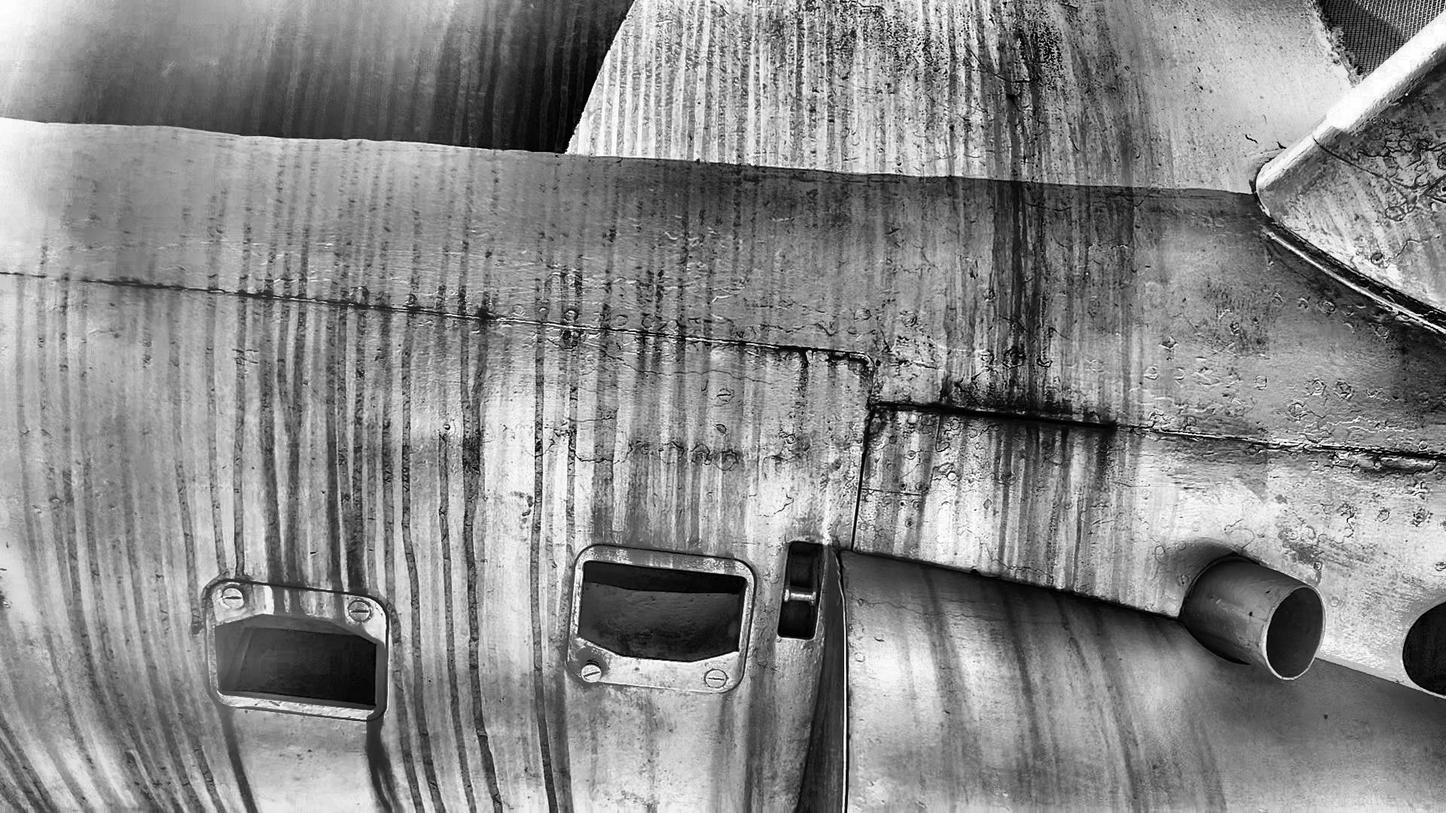crack: (801, 348, 809, 368)
missing-head: (900, 482, 907, 490), (899, 500, 905, 507)
paint-peel-off: (825, 351, 869, 370), (867, 408, 882, 435)
